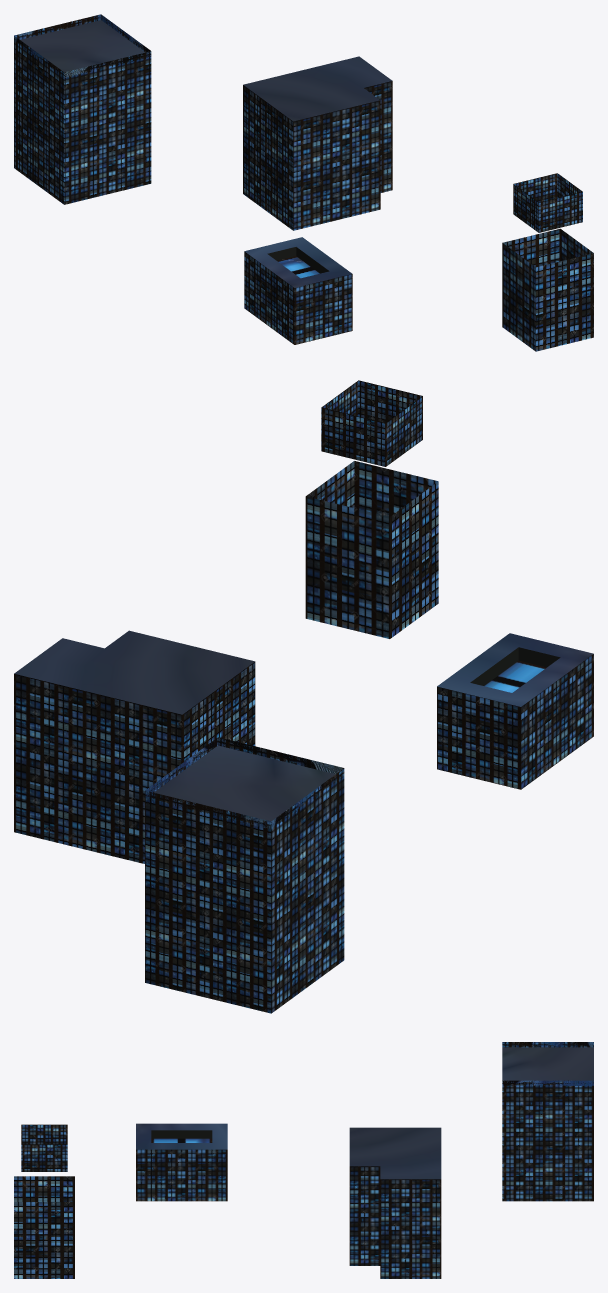
Rendered from oficinas.obj.
3 views of the same model, one above another, from view 1: azimuth 30°, elevation 25°; view 2: azimuth 150°, elevation 25°; view 3: azimuth 270°, elevation 25° (orthographic). The views are drawn at different scales.
Parts seen in each view (by area): view 1: oficinas_Cube.044; view 2: oficinas_Cube.044; view 3: oficinas_Cube.044.
Boxes of the visible parts, bbox=[...] form: oficinas_Cube.044: bbox=[14, 14, 593, 351]; oficinas_Cube.044: bbox=[14, 380, 593, 1013]; oficinas_Cube.044: bbox=[14, 1042, 593, 1278].
Bounding box in the file's own units: 2.25 × 1.19 × 4.75.
